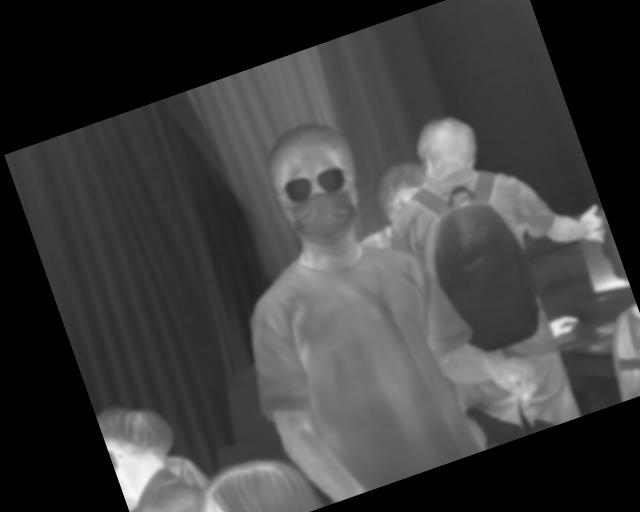face: (256, 112, 379, 257)
